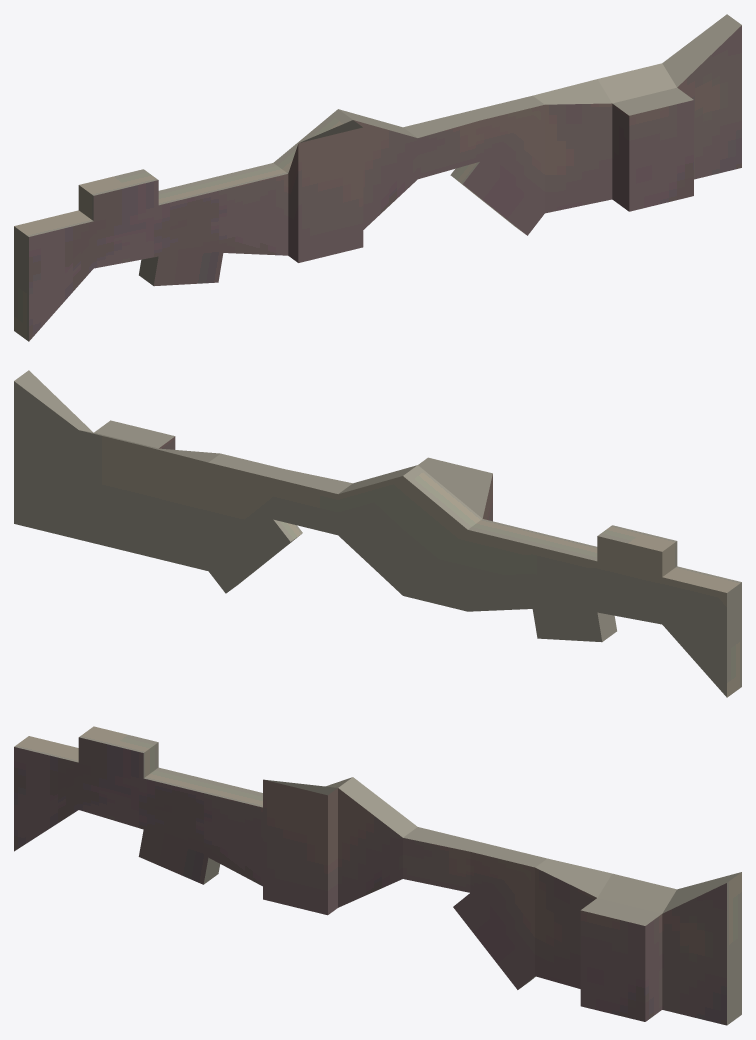
The model's file is 140_rauniopohja.gltf.
The picture shows the model from 3 angles, top to bottom: view 1: azimuth 30°, elevation 25°; view 2: azimuth 150°, elevation 25°; view 3: azimuth 330°, elevation 25°; orthographic projection.
Visible parts, largest first — view 1: rauniopohja; view 2: rauniopohja; view 3: rauniopohja.
Part boxes in pixels (x1,y1,x2,y2): rauniopohja: (14,14,741,341); rauniopohja: (14,370,741,697); rauniopohja: (14,726,741,1025).
Size of the model in its own units: 18.17 by 3.92 by 1.4.
1 material, 1 textured.
